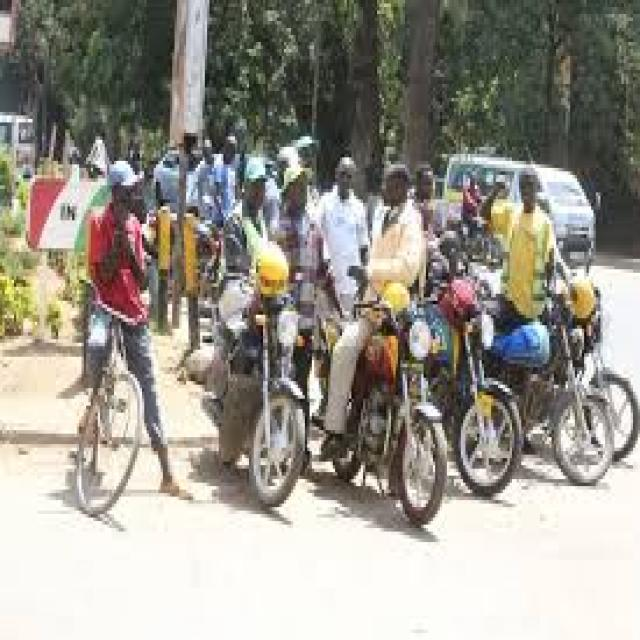bodaboda: (165, 202, 326, 534), (327, 208, 454, 573), (500, 235, 640, 503)
